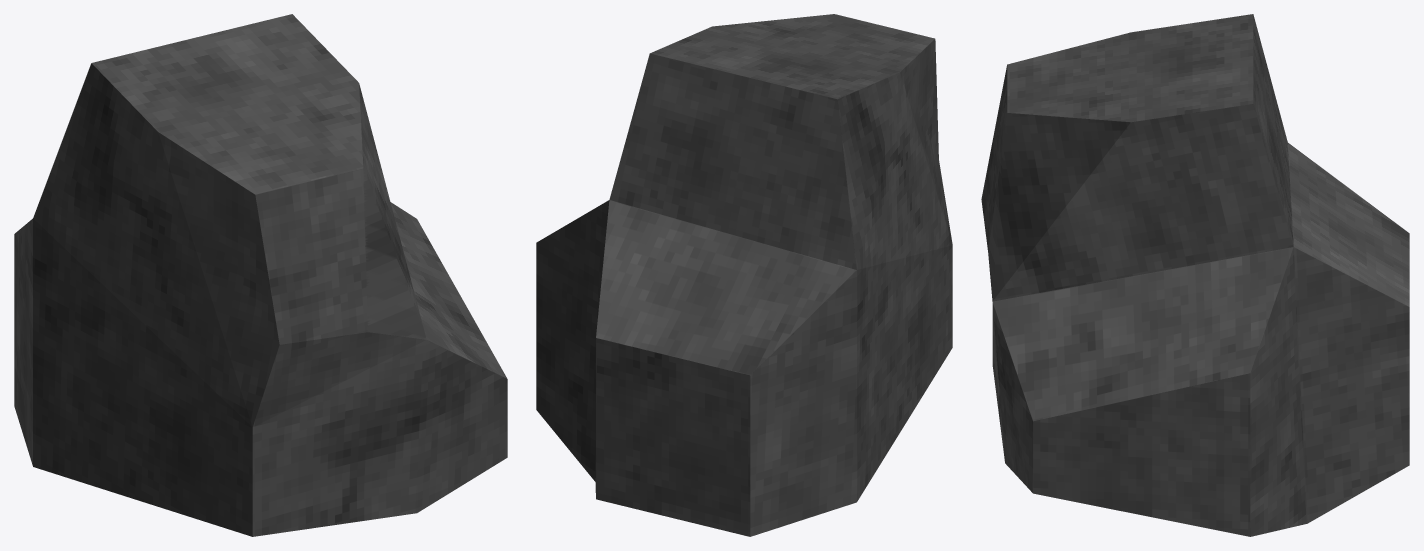
Rendered from Rock Platform.fbx.
3 views of the same model, side by side, from view 1: azimuth 30°, elevation 25°; view 2: azimuth 150°, elevation 25°; view 3: azimuth 270°, elevation 25° (orthographic). The views are drawn at different scales.
Visible parts, largest first — view 1: Natural Platform; view 2: Natural Platform; view 3: Natural Platform.
Part boxes in pixels (x1,y1,x2,y2): Natural Platform: (14, 14, 507, 536); Natural Platform: (536, 14, 952, 536); Natural Platform: (981, 14, 1409, 536).
Size of the model in its own units: 75.59 by 88.26 by 84.12.
Materials: 1 (1 with a texture image).
